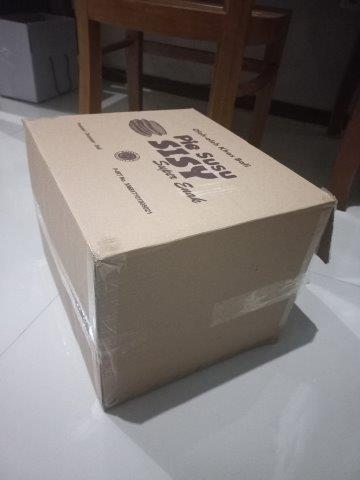kardus: (22, 106, 336, 412)
